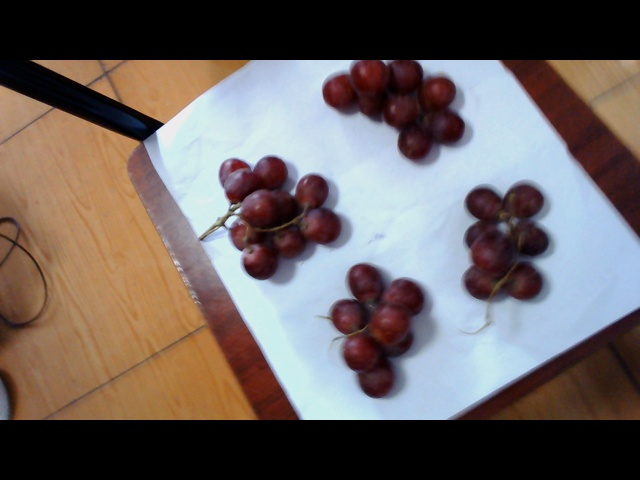grape: (320, 263, 445, 397), (211, 156, 342, 278), (322, 57, 472, 156), (461, 166, 557, 308)
